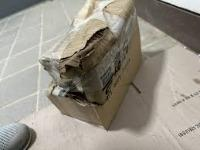damaged package: (42, 27, 125, 108)
undamaged: (35, 0, 150, 133)
